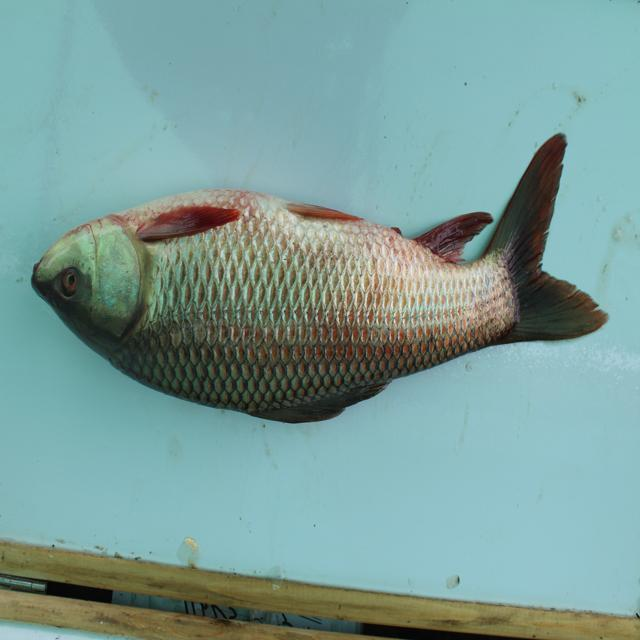Rohu: (29, 144, 610, 436)
